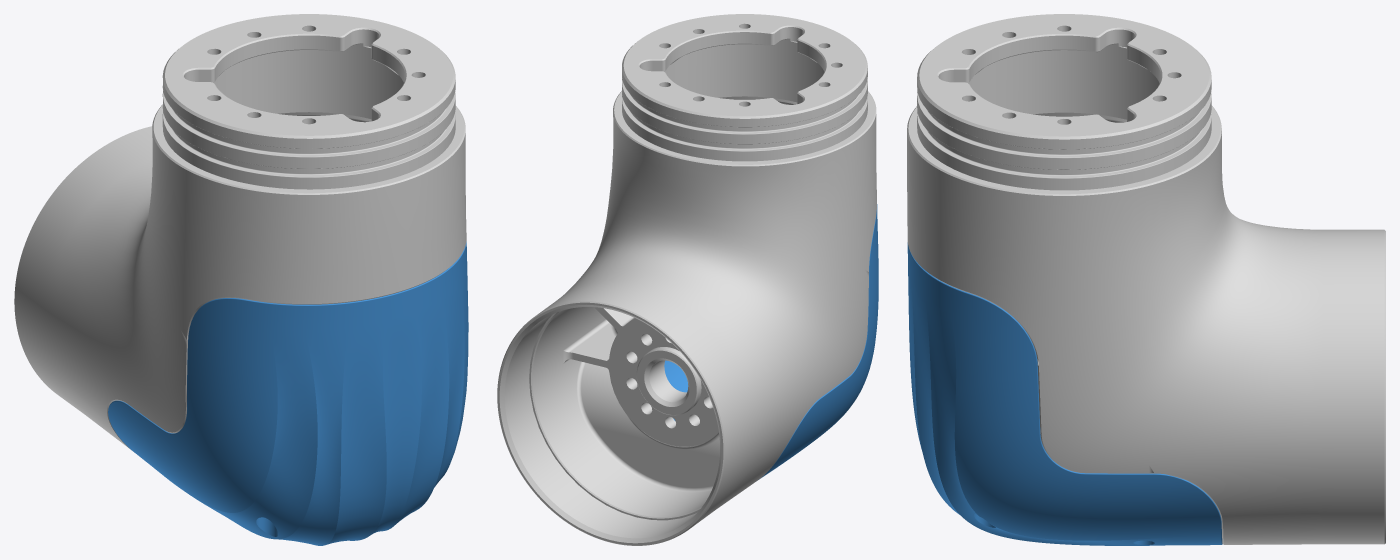
The picture shows the model from 3 angles, left to right: view 1: azimuth 30°, elevation 25°; view 2: azimuth 150°, elevation 25°; view 3: azimuth 270°, elevation 25°; orthographic projection. The views are drawn at different scales.
Parts seen in each view (by area): view 1: 5; view 2: 5; view 3: 5.
Part boxes in pixels (<box>): 5: <box>14,14,468,545</box>; 5: <box>497,14,878,545</box>; 5: <box>907,14,1385,545</box>.
Bounding box in the file's own units: 71 × 111 × 106.
